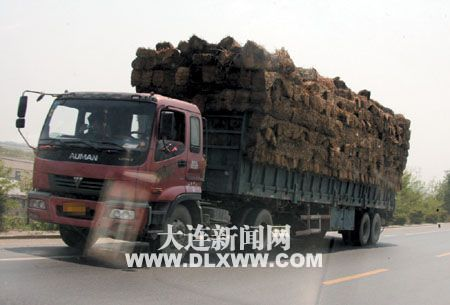chaozhai: (17, 32, 416, 250)
